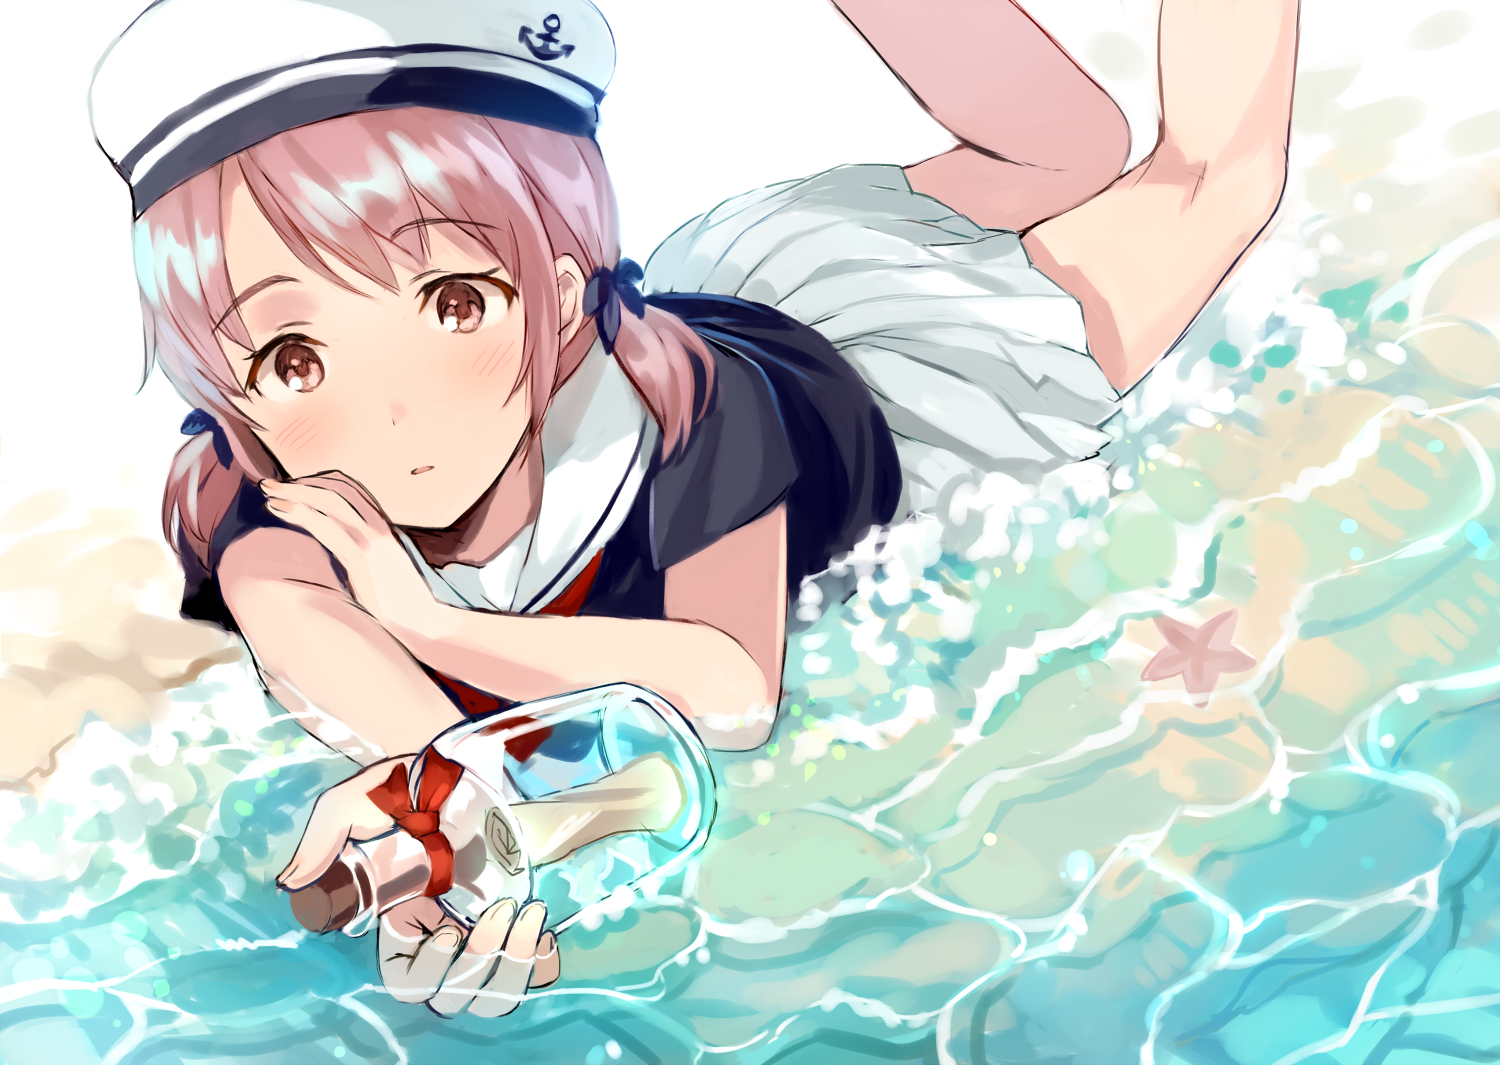纸片人正脸: (115, 14, 628, 539)
